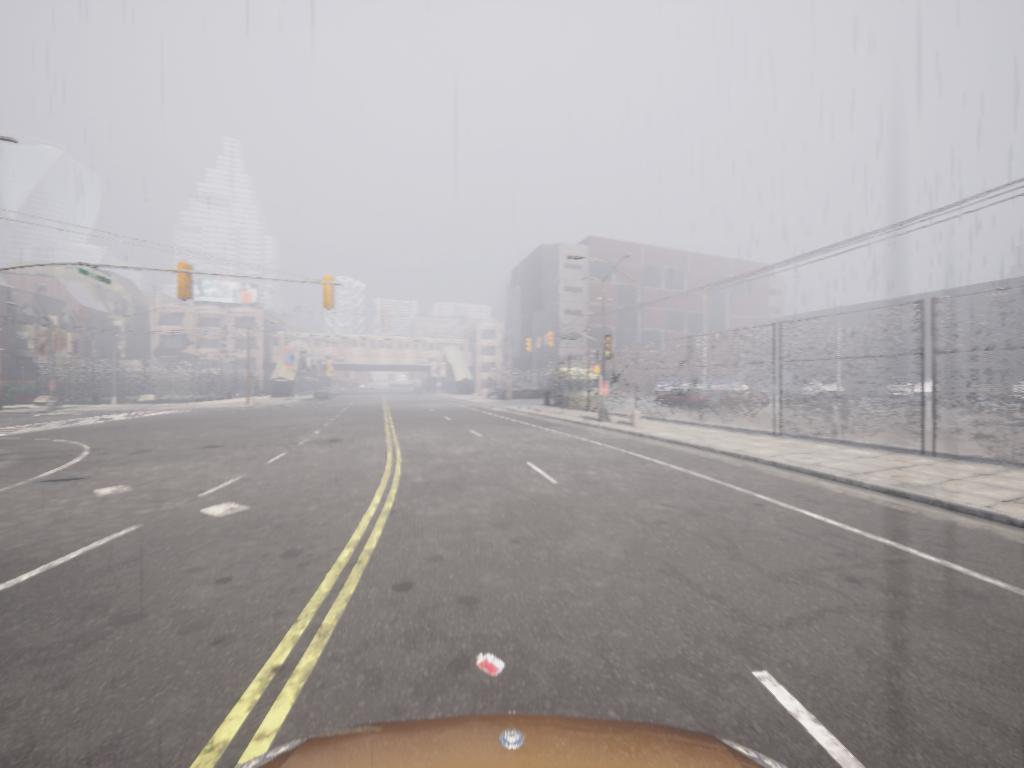traffic_light: (179, 263, 197, 302), (322, 277, 337, 310), (605, 339, 615, 361), (526, 339, 536, 355), (549, 332, 555, 350)
